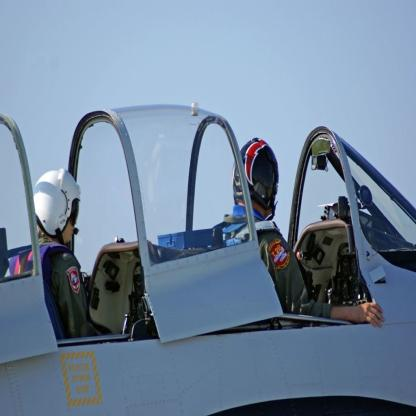Helmet: (34, 168, 80, 250), (242, 134, 283, 216)
